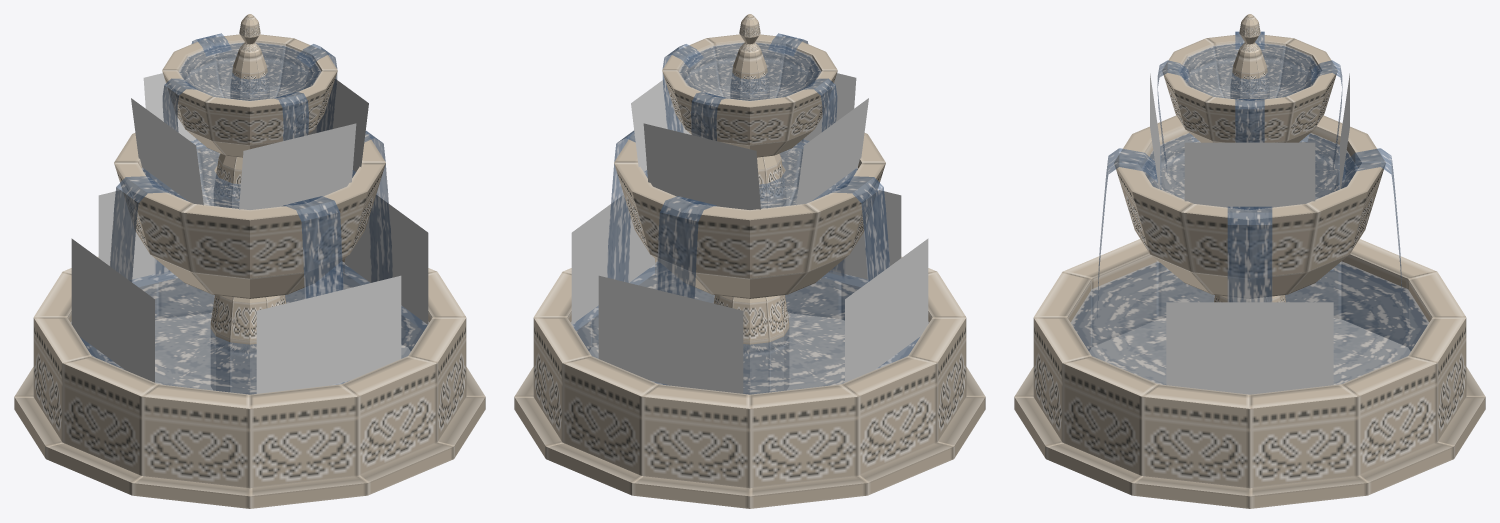
File: fountain 1.fbx
3 views of the same model, side by side, from view 1: azimuth 30°, elevation 25°; view 2: azimuth 150°, elevation 25°; view 3: azimuth 270°, elevation 25° (orthographic).
Visible parts, largest first — view 1: 분수1단, water particles.001, 분수2단, 분수3단, Falling water.008, 분수바닥, 분수 물, 분수 물3, 분수1단 기둥, 분수3단 기둥.002, 분수 물2, 분수2단 기둥; view 2: 분수1단, water particles.001, 분수2단, 분수3단, Falling water.008, 분수바닥, 분수 물, 분수 물3, 분수1단 기둥, 분수3단 기둥.002, 분수 물2, 분수2단 기둥; view 3: 분수1단, 분수2단, water particles.001, 분수 물, 분수3단, 분수바닥, Falling water.008, 분수 물3, 분수 물2, 분수3단 기둥.002.
Boxes of the visible parts, x1,y1,x2,y2 form: 분수1단: (33,256,466,488); water particles.001: (71,73,428,393); 분수2단: (114,133,385,298); 분수3단: (162,34,337,157); Falling water.008: (110,33,392,298); 분수바닥: (14,367,485,508); 분수 물: (71,262,428,394); 분수 물3: (178,42,321,100); 분수1단 기둥: (210,295,286,394); 분수3단 기둥.002: (230,14,269,100); 분수 물2: (141,140,355,208); 분수2단 기둥: (213,153,242,208); 분수1단: (533,256,966,488); water particles.001: (571,73,928,393); 분수2단: (614,133,885,298); 분수3단: (662,34,837,157); Falling water.008: (607,33,889,298); 분수바닥: (514,367,985,508); 분수 물: (571,262,928,394); 분수 물3: (678,42,821,100); 분수1단 기둥: (713,295,789,394); 분수3단 기둥.002: (730,14,769,100); 분수 물2: (644,140,858,208); 분수2단 기둥: (757,153,786,208); 분수1단: (1033,239,1466,488); 분수2단: (1114,115,1385,298); water particles.001: (1150,73,1349,394); 분수 물: (1071,261,1428,384); 분수3단: (1162,34,1337,142); 분수바닥: (1014,367,1485,508); Falling water.008: (1097,31,1402,318); 분수 물3: (1179,43,1320,100); 분수 물2: (1142,133,1357,199); 분수3단 기둥.002: (1230,14,1269,99).
Size of the model in its own units: 300 by 277 by 300.
Materials: 4 (3 with a texture image).
